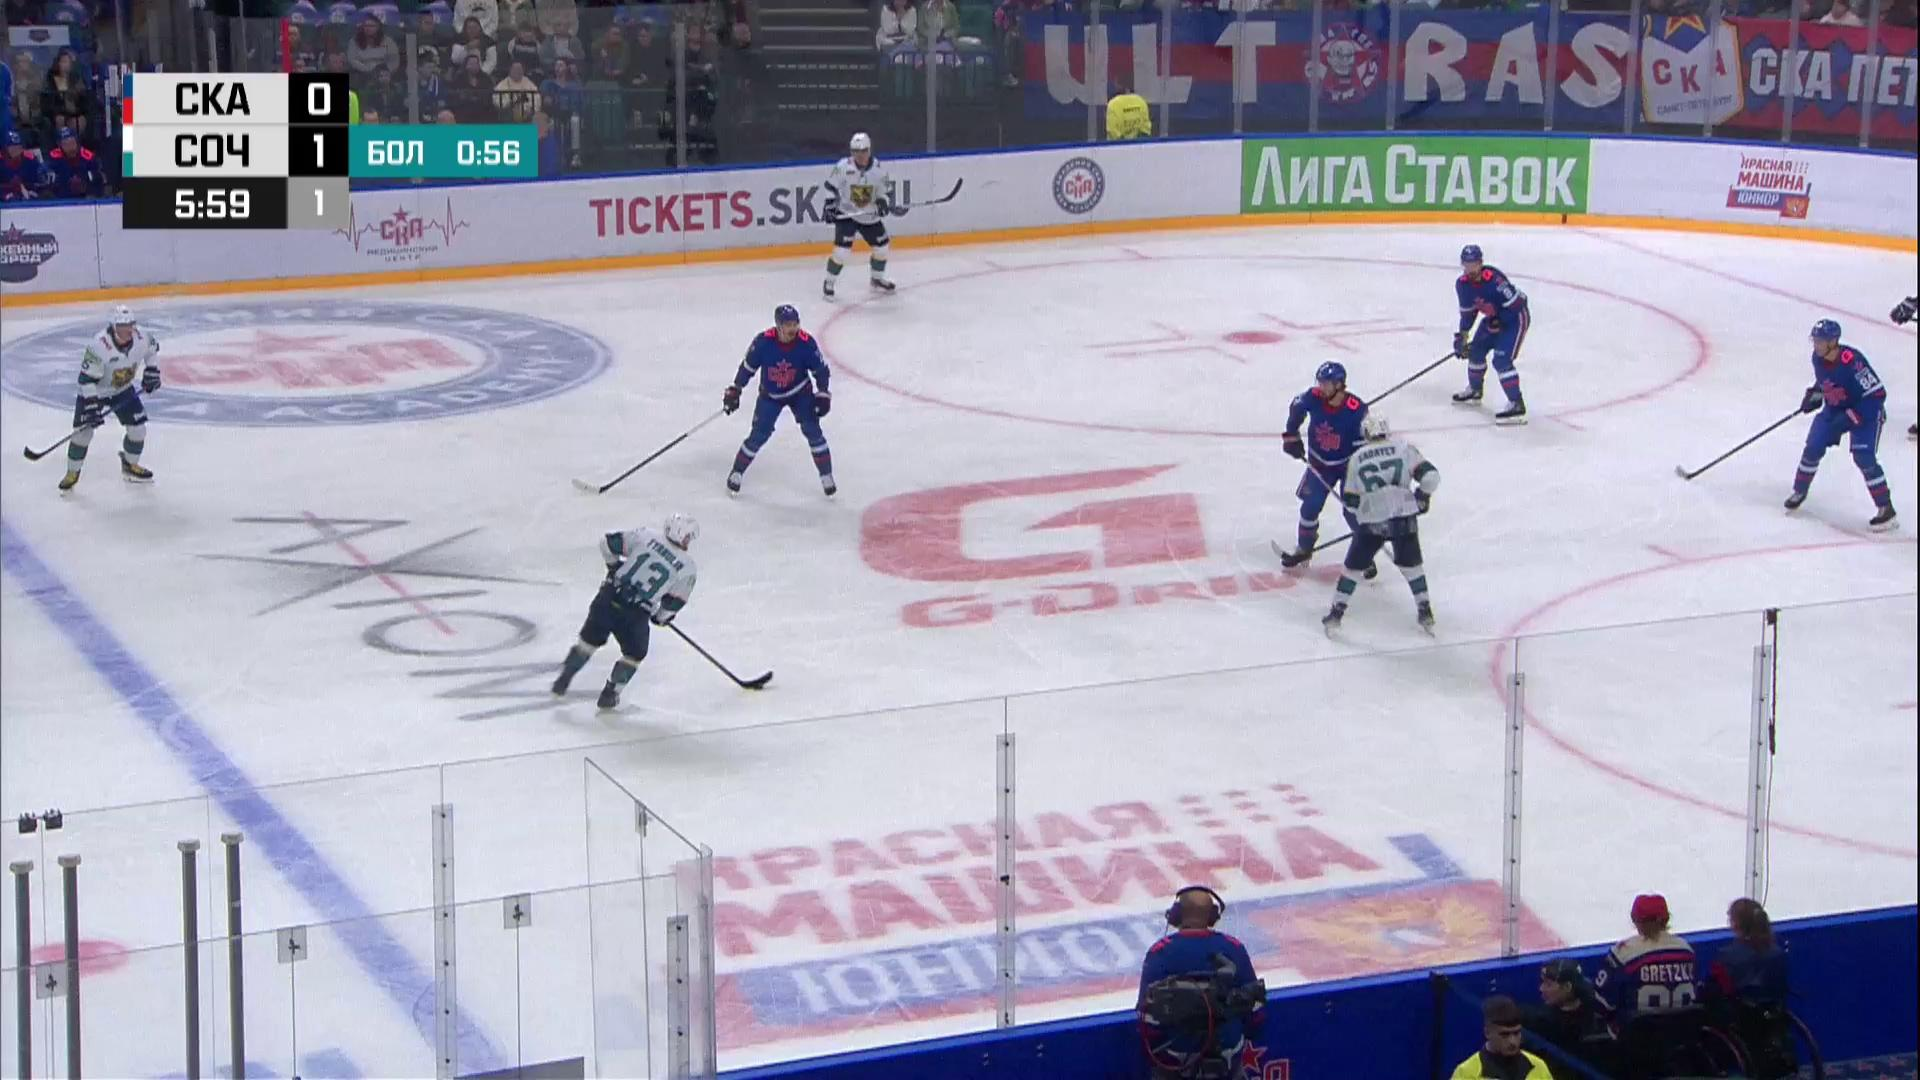ball: (752, 683, 764, 691)
